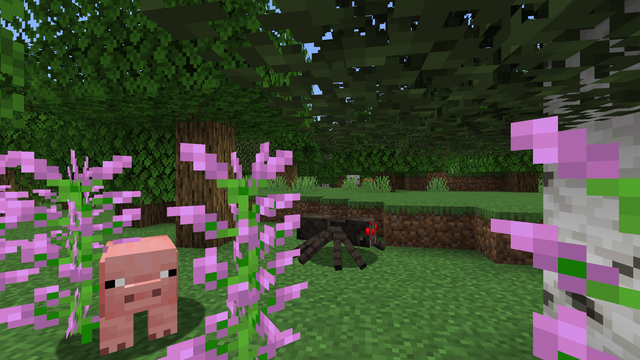araignees: (301, 209, 375, 268)
cochons: (61, 234, 201, 355)
